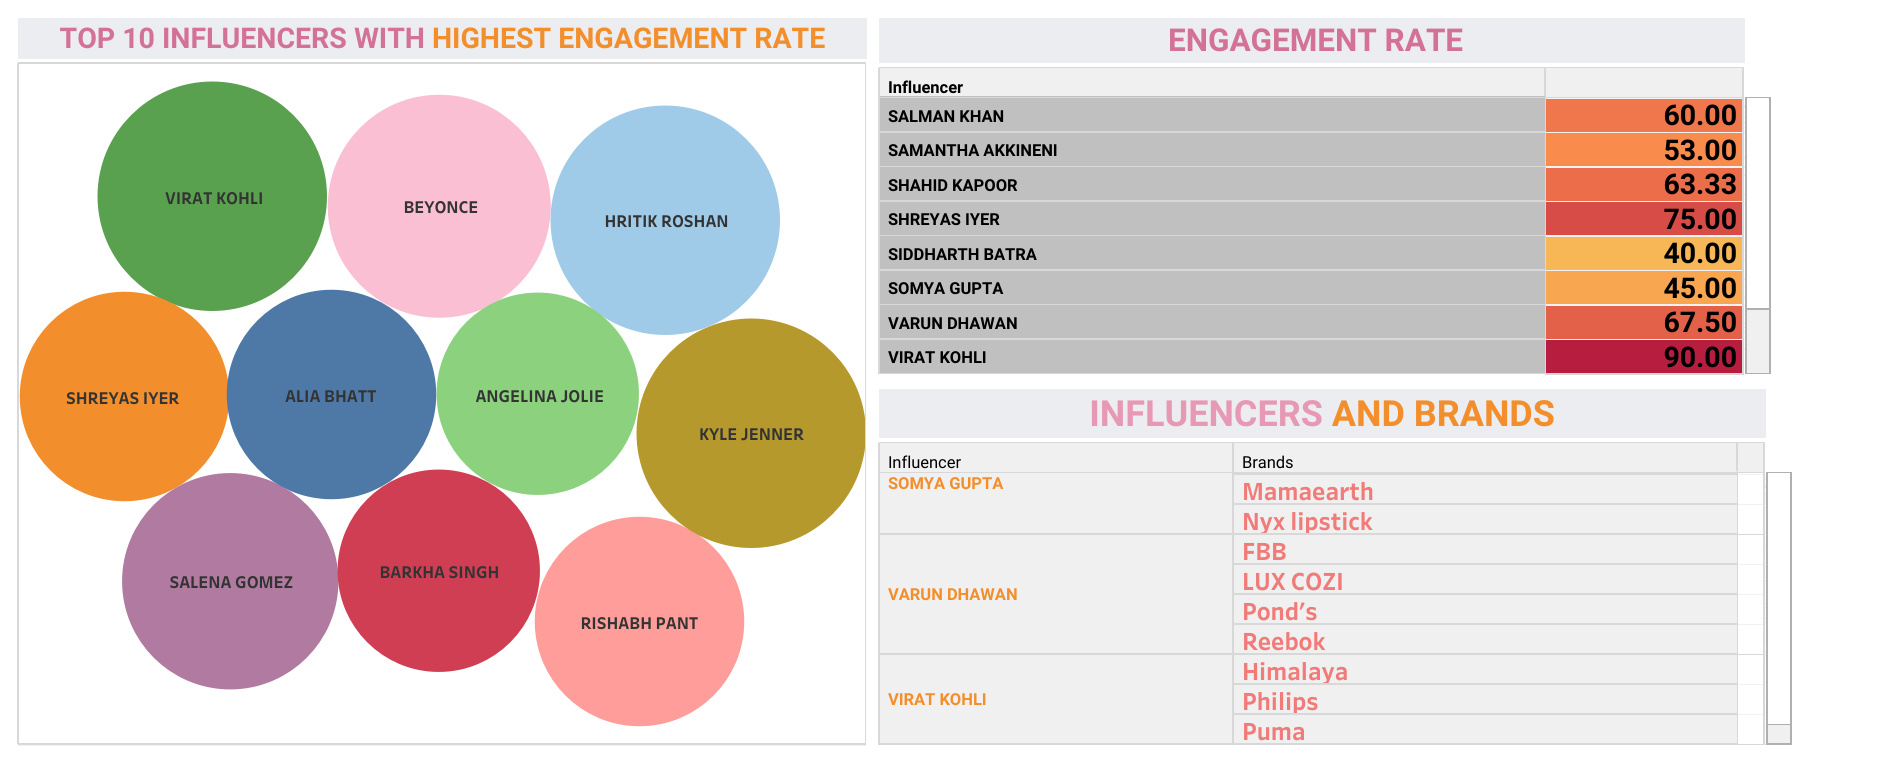

The dashboard page shown, as its layout file describes it:
{"tool":"tableau","page":{"name":"Dashboard 4","canvas":[1000,1000],"units":"permille","ordinal":3},"visuals":[{"type":"worksheet","title":"Sheet 3","mark":"Circle","box":[5,9.8,458.9,980.4]},{"type":"worksheet","title":"Sheet 2","mark":"Square","rows":["INFLUENCER"],"box":[463.8,9.8,531.2,490.2]},{"type":"worksheet","title":"Sheet 1","mark":"Automatic","rows":["INFLUENCER","Brands"],"box":[463.8,500,531.2,490.2]}]}

Visuals, with their boxes on the dashboard's canvas, which has no fixed pixel size, in thousandths of its width and height (x1, y1, x2, y2). These are canvas units, not pixel positions in the 1880x762 screenshot, which may show the page scaled, cropped or inside an application window:
"Sheet 3" worksheet (Circle marks): l=5, t=10, r=464, b=990
"Sheet 2" worksheet (Square marks): l=464, t=10, r=995, b=500
"Sheet 1" worksheet: l=464, t=500, r=995, b=990
